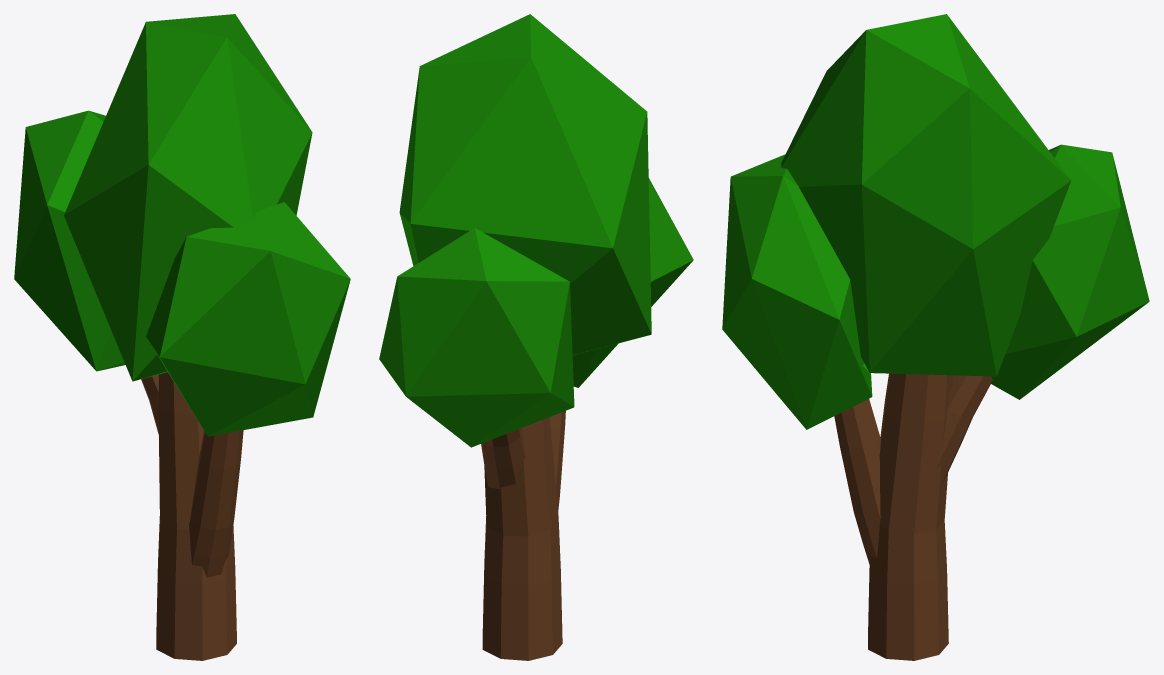
The model's file is Tree.fbx.
3 views of the same model, side by side, from view 1: azimuth 30°, elevation 25°; view 2: azimuth 150°, elevation 25°; view 3: azimuth 270°, elevation 25° (orthographic).
Parts seen in each view (by area): view 1: Icosphere, Cylinder, Cylinder.001, Cylinder.002; view 2: Icosphere, Cylinder, Cylinder.002, Cylinder.001; view 3: Icosphere, Cylinder, Cylinder.001, Cylinder.002.
Part boxes in pixels (left/top/right/bottom): Icosphere: left=14, top=14, right=350, bottom=436; Cylinder: left=156, top=372, right=236, bottom=660; Cylinder.001: left=189, top=430, right=243, bottom=577; Cylinder.002: left=141, top=374, right=158, bottom=434; Icosphere: left=379, top=14, right=693, bottom=447; Cylinder: left=482, top=417, right=562, bottom=660; Cylinder.002: left=481, top=427, right=525, bottom=489; Cylinder.001: left=550, top=411, right=565, bottom=511; Icosphere: left=722, top=14, right=1149, bottom=429; Cylinder: left=868, top=373, right=953, bottom=660; Cylinder.001: left=834, top=399, right=880, bottom=565; Cylinder.002: left=936, top=375, right=992, bottom=483.
Bounding box in the file's own units: 572 × 1637 × 1024.
